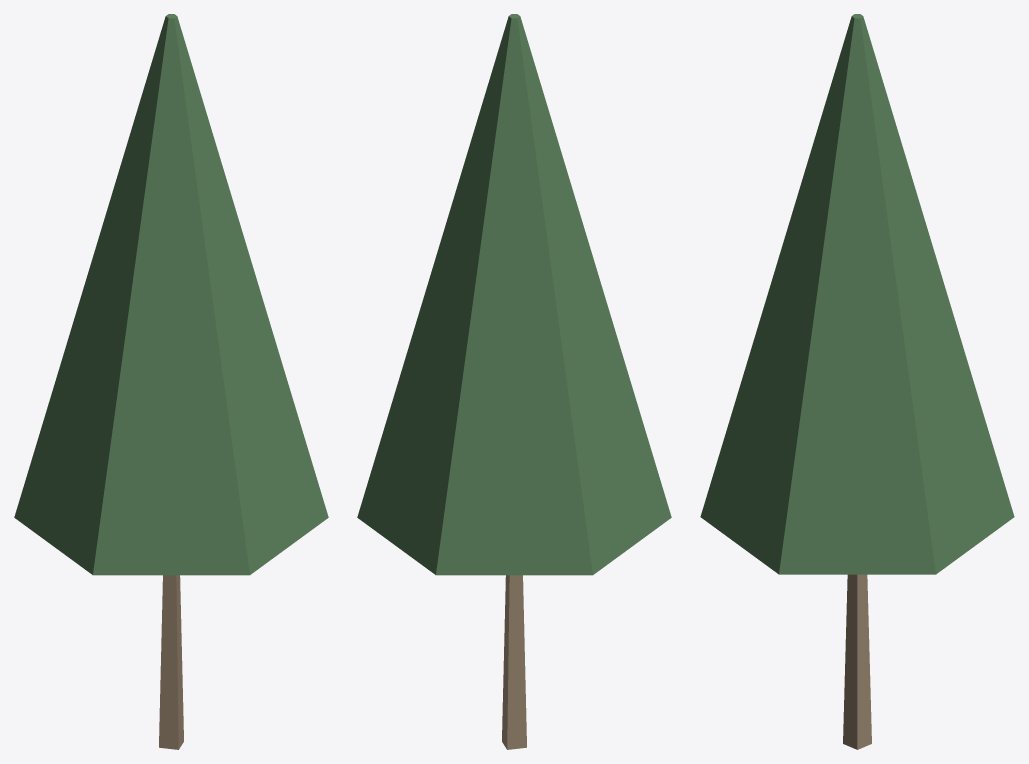
File: pine_lod.glb
3 views of the same model, side by side, from view 1: azimuth 30°, elevation 25°; view 2: azimuth 150°, elevation 25°; view 3: azimuth 270°, elevation 25° (orthographic).
Visible parts, largest first — view 1: pine_lod; view 2: pine_lod; view 3: pine_lod.
Part boxes in pixels (x1,y1,x2,y2): pine_lod: (14,14,328,749); pine_lod: (357,14,671,749); pine_lod: (700,14,1014,749).
Size of the model in its own units: 4.68 by 13.8 by 5.4.
